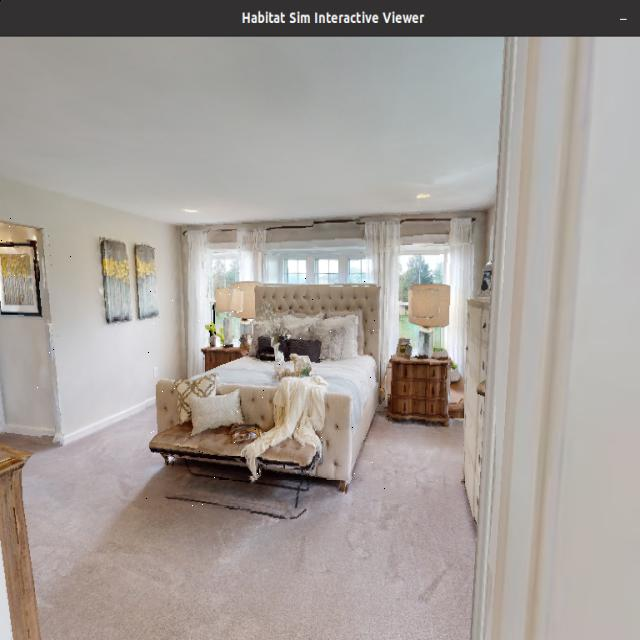bed: (145, 274, 392, 508)
door-frame: (0, 218, 71, 472)
